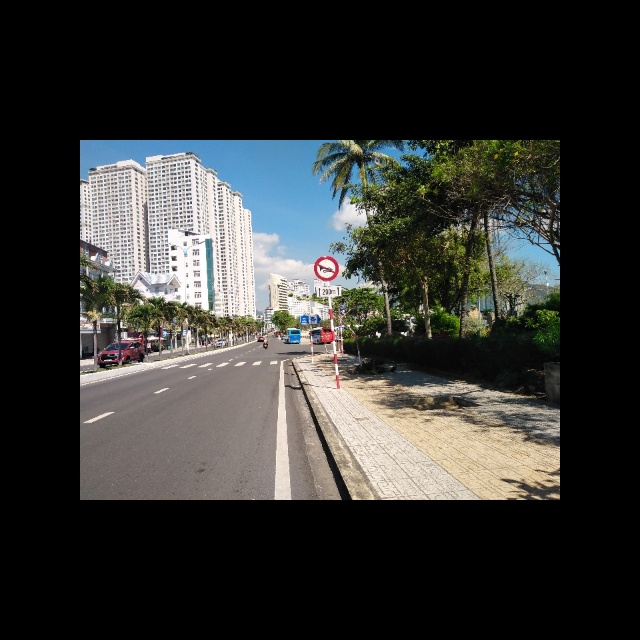Cấm bấm còi: (313, 255, 339, 281)
